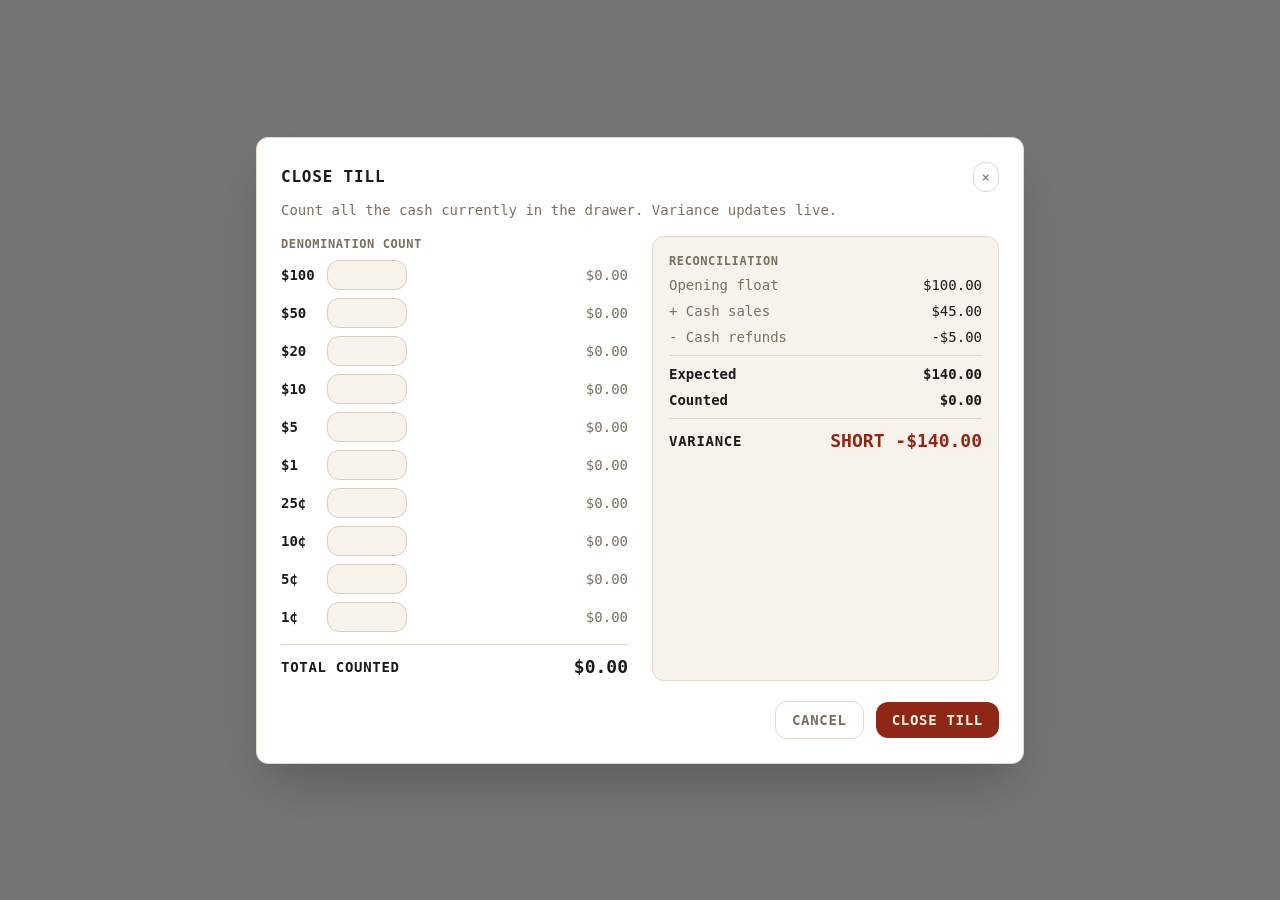
<CloseTillModal> › computes variance live as the cashier types denominations
Expected: the text "$140.00" is shown, [923,364,982,384]
Type "1" into the number field named "Count of $100". click: {"x": 367, "y": 274}
box: [327,260,407,290]
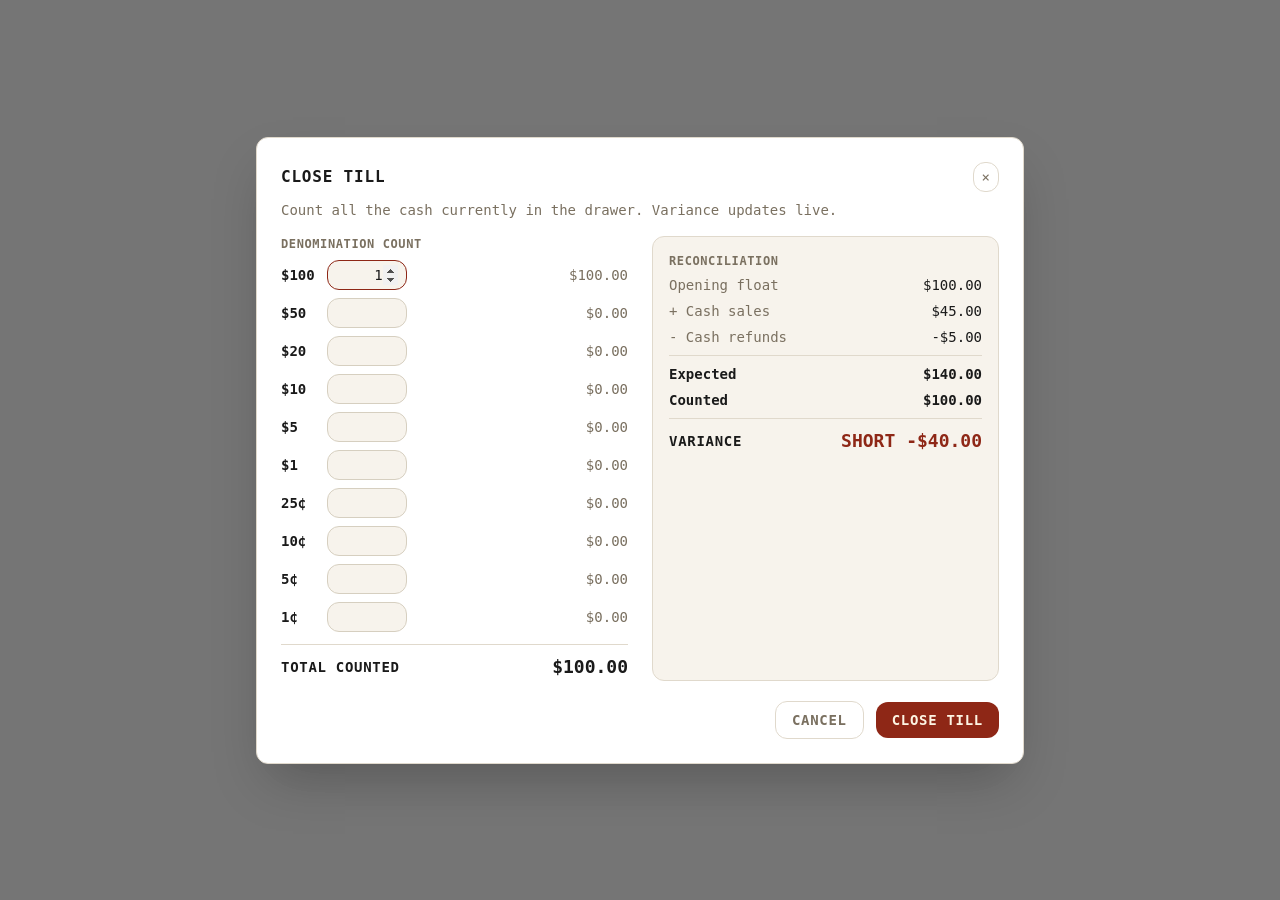
Type "2" into the number field named "Count of $20". click: {"x": 367, "y": 350}
box: [327,336,407,366]
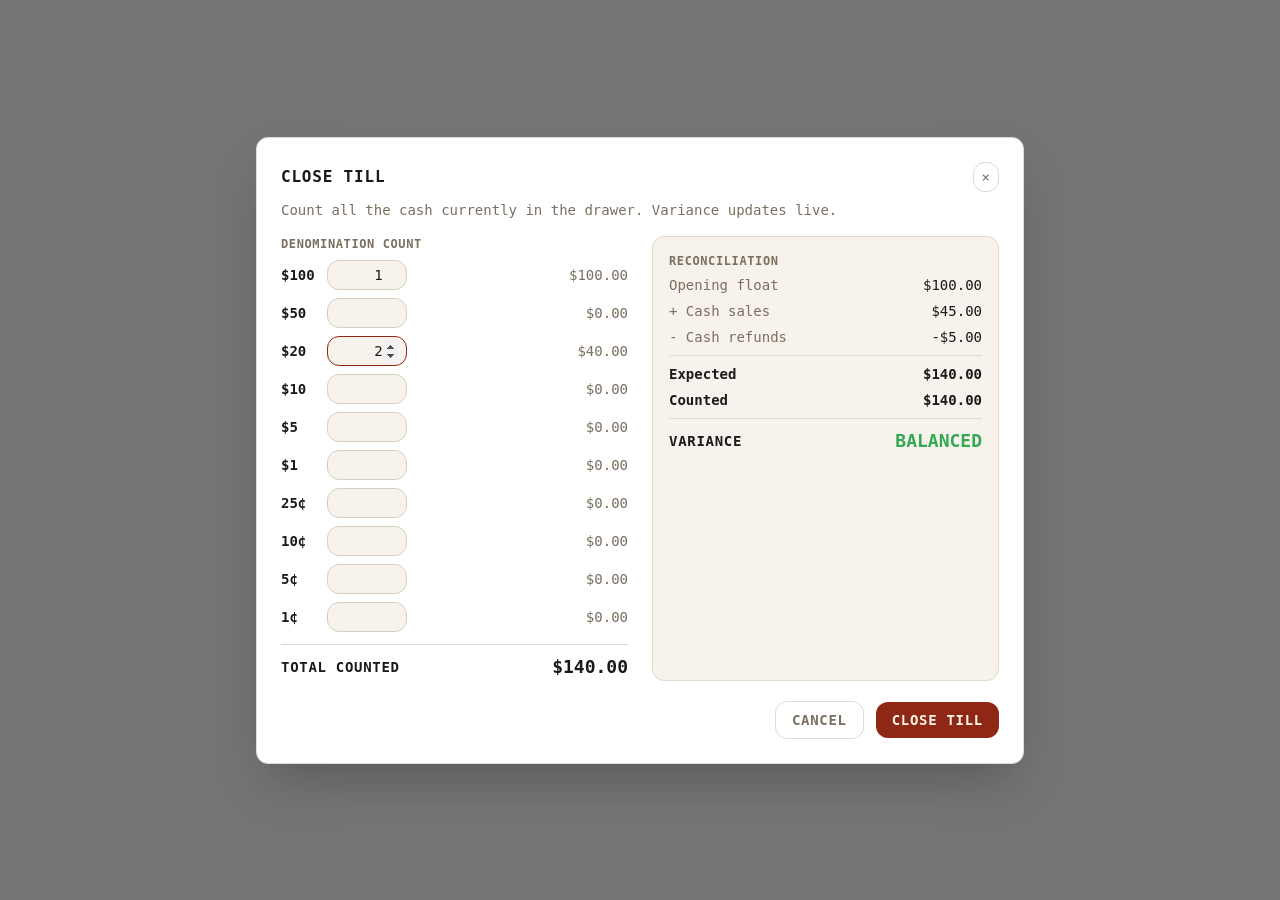
Expected: the text with test id "close-till-counted" reads "$140.00", [552,656,628,676]
Expected: the text with test id "close-till-variance" reads "BALANCED", [895,430,982,450]
